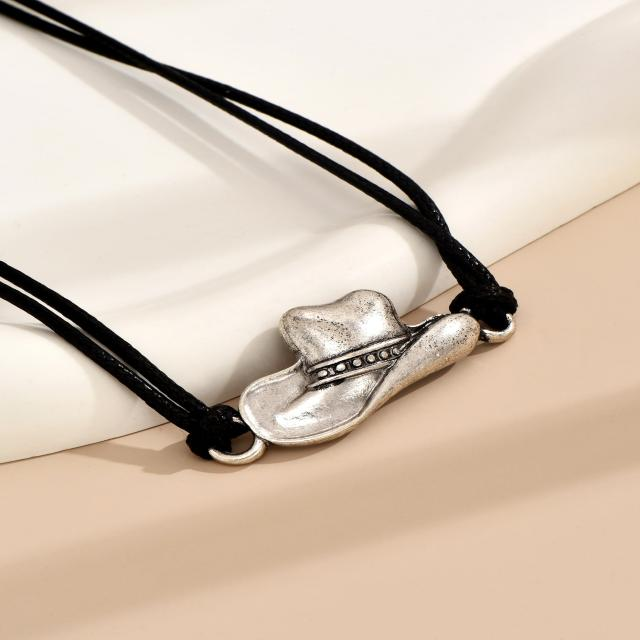bracelet: (4, 4, 598, 565)
